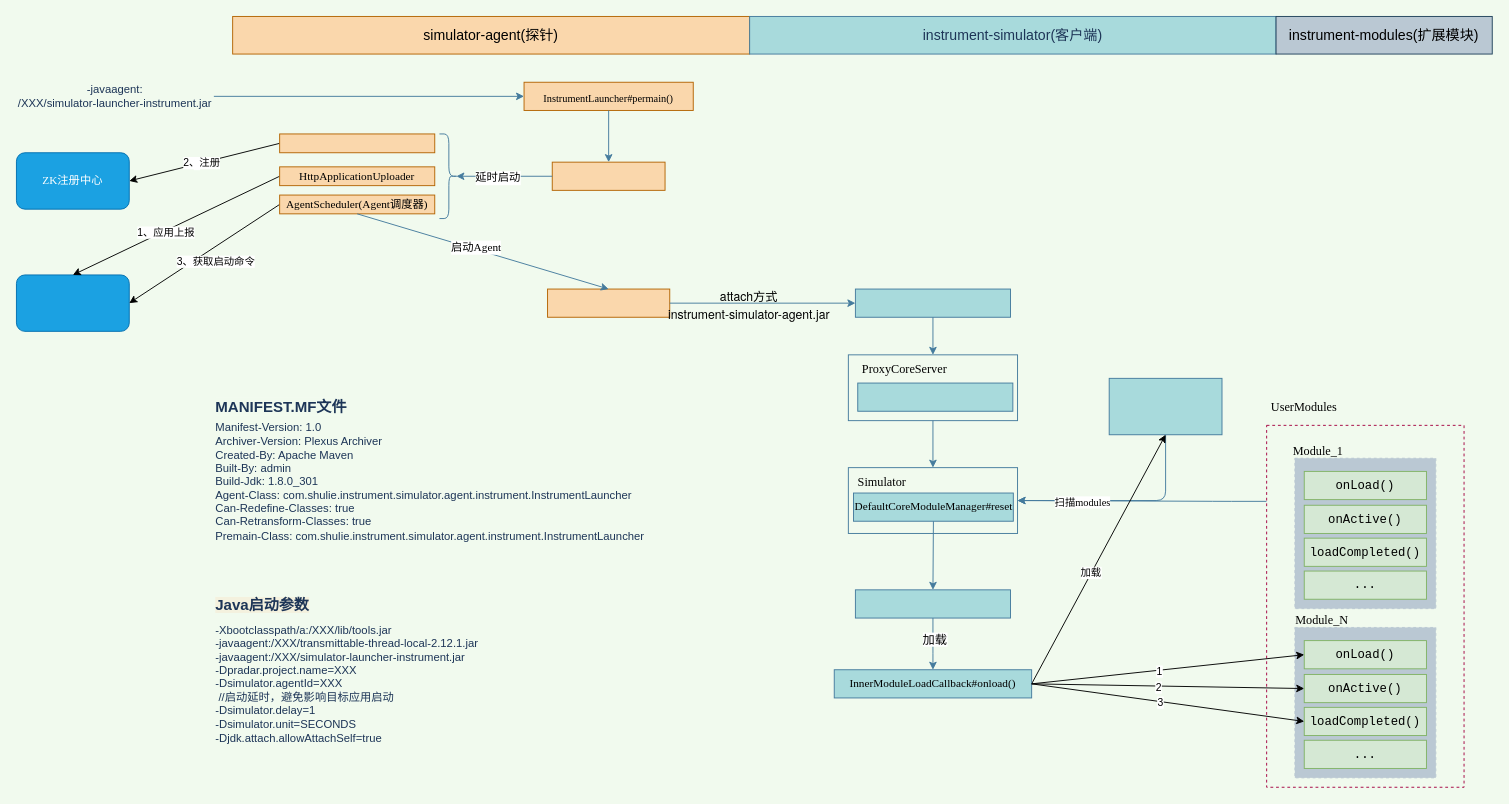
The diagram is 1509 pixels wide and 804 high, and some of its shapes have lost their labels. Here are the shapes that lost their labels. From the top down, the box of each, then its label:
(279, 133, 435, 153): ZookeeperRegister
(551, 161, 665, 190): CoreLauncher#start()
(16, 274, 129, 331): Tro-Web控制台
(547, 288, 670, 317): AgentLauncher#startup()
(854, 288, 1010, 317): AgentLauncher#agentmain()
(857, 382, 1013, 411): JettyCoreServer#bind
(1108, 377, 1222, 435): SystemModules
(854, 589, 1010, 618): ModelJarLoader#load()
